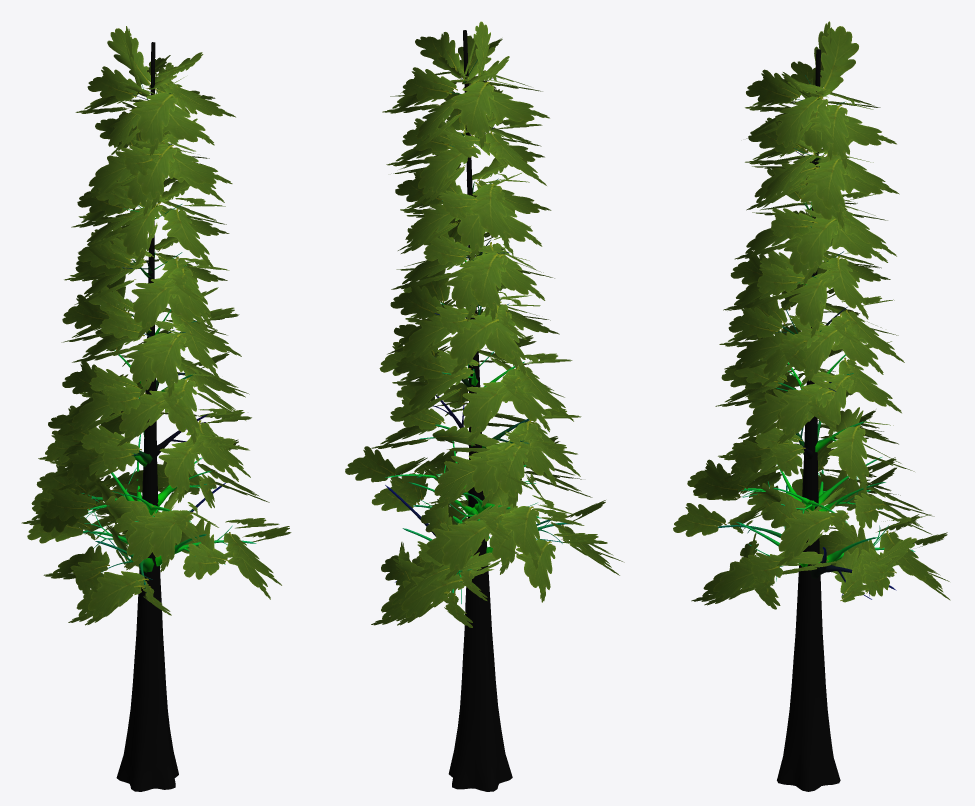
Rendered from Tree1.fbx.
3 renders of one model, left to right at view 1: azimuth 30°, elevation 25°; view 2: azimuth 150°, elevation 25°; view 3: azimuth 270°, elevation 25°, orthographic. The views are drawn at different scales.
Visible parts, largest first — view 1: leaf oak_1, bark02_0; view 2: leaf oak_1, bark02_0; view 3: leaf oak_1, bark02_0.
Boxes of the visible parts, x1,y1,x2,y2 form: leaf oak_1: [21, 26, 291, 625]; bark02_0: [80, 42, 256, 791]; leaf oak_1: [345, 21, 624, 627]; bark02_0: [385, 30, 569, 791]; leaf oak_1: [673, 21, 950, 609]; bark02_0: [718, 49, 915, 791].
Bounding box in the file's own units: 224 × 653 × 235.
1 material, 1 textured.
